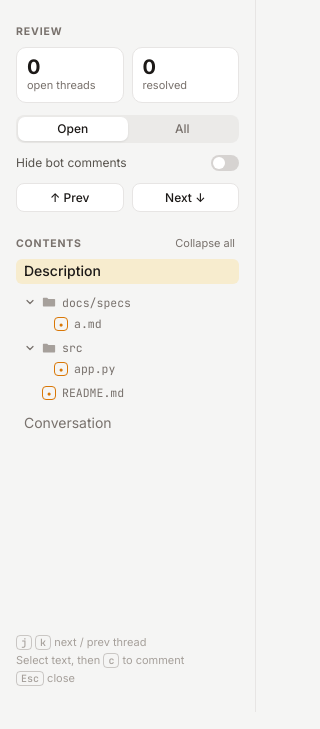
Collapse all folds every folder, then offers Expand all
The width and height of the screenshot is (320, 729).
Click the button "Collapse all": (205, 244) [171,236,239,252]
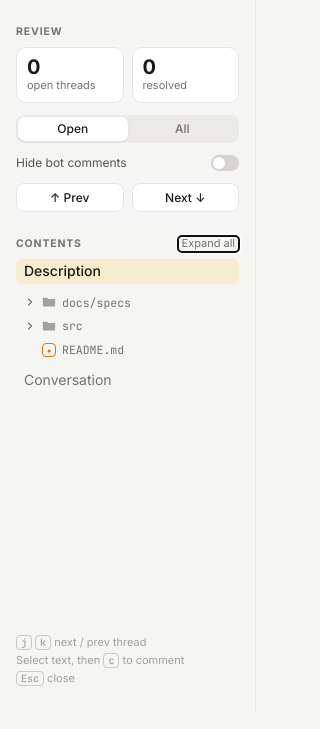
Click the button "Expand all": (208, 244) [178,236,239,252]
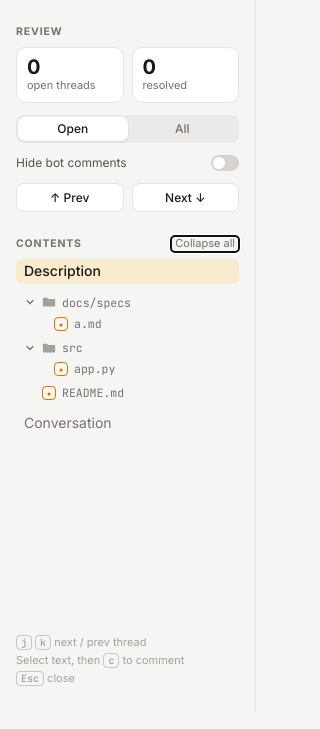
Check: the button "Collapse all" is shown, box [171,236,239,252]
